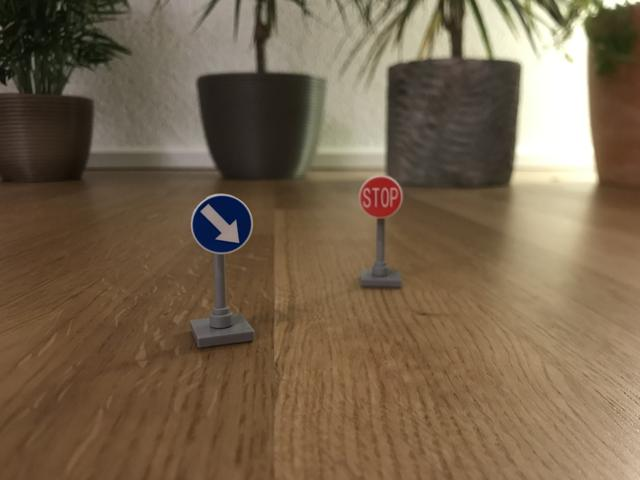rechts halten: (192, 193, 254, 256)
stop: (359, 176, 403, 220)
